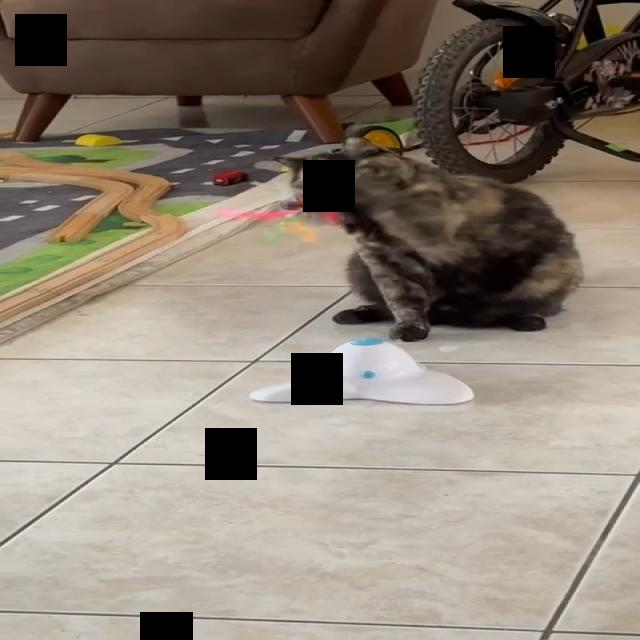authorized: (273, 136, 584, 342)
